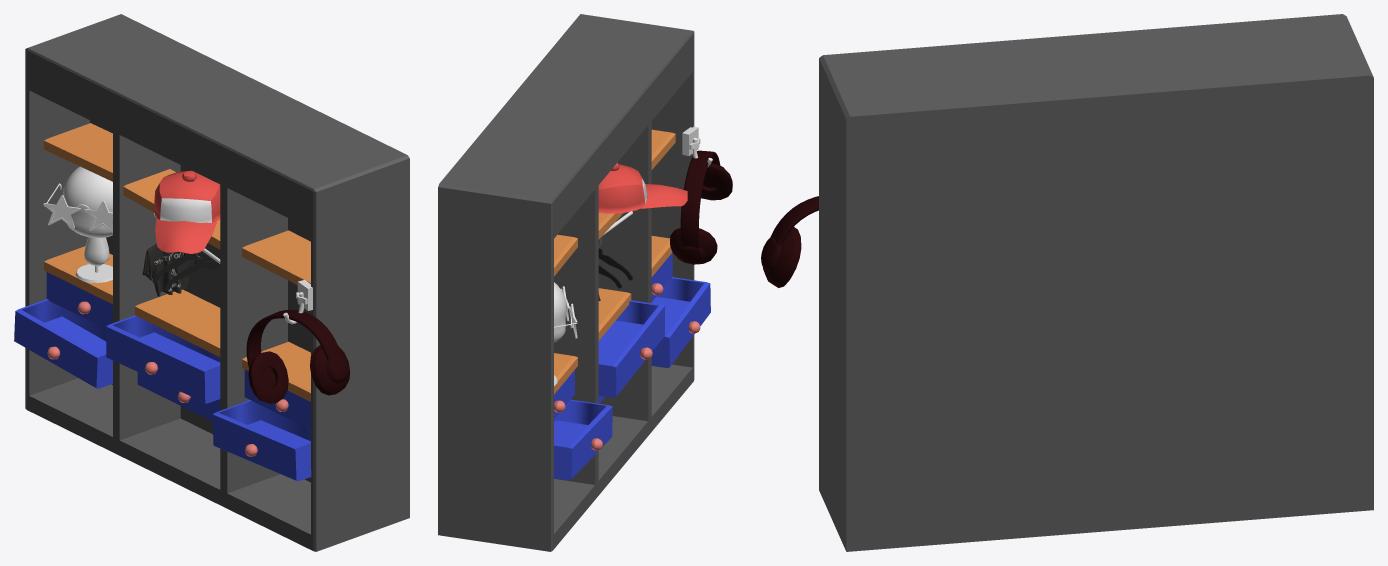
Rendered from wardrobe_right.fbx.
3 renders of one model, left to right at view 1: azimuth 30°, elevation 25°; view 2: azimuth 150°, elevation 25°; view 3: azimuth 270°, elevation 25°, orthographic. The views are drawn at different scales.
Parts seen in each view (by area): view 1: Cube.024, Cube.031, Cube.028, Cube.034, headphone.002, bone, Cylinder.001, Cube.032, Cube.026, Cube.027, Cube.029, Cube.030 (+8 smaller); view 2: Cube.024, Cube.031, headphone.002, Cube.028, Cube.034, bone, Cube.032, Cube.027, Cylinder.001, Cube.026, Cube.030, Cube.036 (+3 smaller); view 3: Cube.024, headphone.002.
Boxes of the visible parts, bbox=[...] form: Cube.024: bbox=[25, 14, 409, 551]; Cube.031: bbox=[106, 315, 220, 403]; Cube.028: bbox=[14, 299, 112, 388]; Cube.034: bbox=[212, 400, 311, 481]; headphone.002: bbox=[246, 309, 349, 403]; bone: bbox=[154, 170, 220, 253]; Cylinder.001: bbox=[63, 166, 112, 282]; Cube.032: bbox=[135, 289, 220, 356]; Cube.026: bbox=[44, 123, 112, 181]; Cube.027: bbox=[242, 230, 310, 284]; Cube.029: bbox=[46, 272, 112, 328]; Cube.030: bbox=[44, 246, 112, 304]; Cube.024: bbox=[438, 14, 694, 551]; Cube.031: bbox=[598, 300, 664, 397]; headphone.002: bbox=[670, 150, 732, 264]; Cube.028: bbox=[553, 399, 612, 480]; Cube.034: bbox=[651, 277, 710, 368]; bone: bbox=[598, 163, 687, 213]; Cube.032: bbox=[598, 288, 631, 340]; Cube.027: bbox=[651, 129, 675, 169]; Cylinder.001: bbox=[554, 282, 566, 385]; Cube.026: bbox=[554, 234, 577, 276]; Cube.030: bbox=[554, 353, 577, 394]; Cube.036: bbox=[651, 236, 672, 276]; Cube.024: bbox=[819, 14, 1373, 551]; headphone.002: bbox=[761, 196, 818, 287].
Size of the model in its own units: 429 by 770 by 983.
11 materials, 1 textured.
